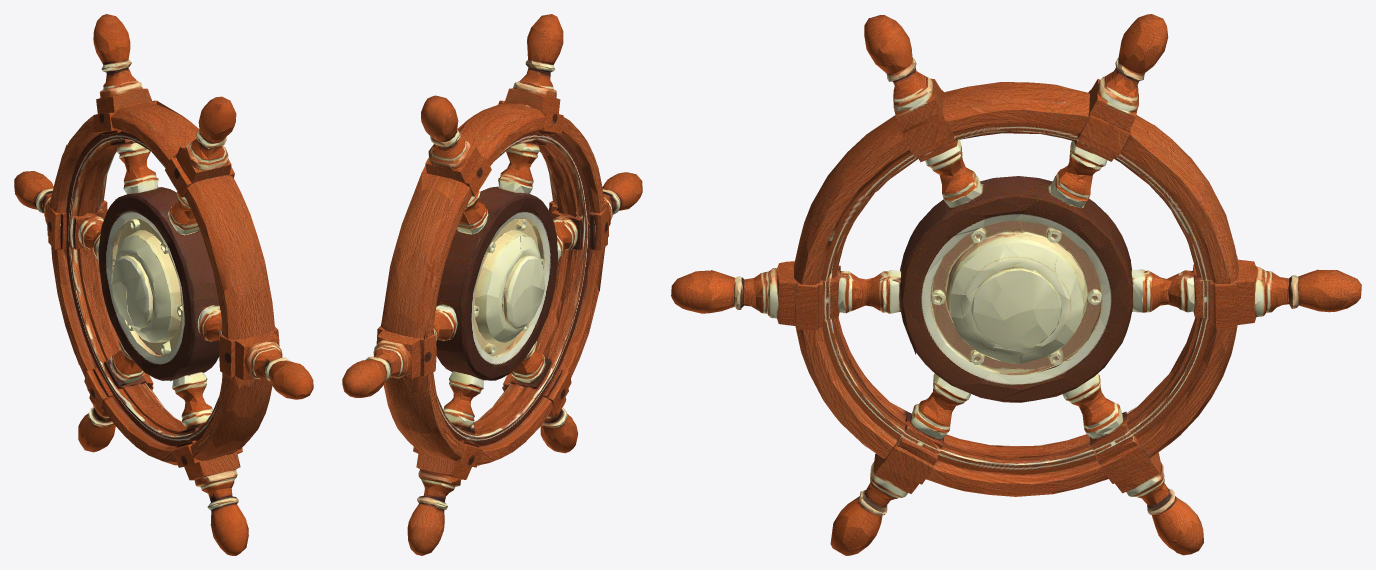
The model's file is timao-balsa.glb.
3 renders of one model, left to right at view 1: azimuth 30°, elevation 25°; view 2: azimuth 150°, elevation 25°; view 3: azimuth 270°, elevation 25°, orthographic. The views are drawn at different scales.
Parts seen in each view (by area): view 1: timao-balsa; view 2: timao-balsa; view 3: timao-balsa.
Part boxes in pixels (x1=…): timao-balsa: x1=14, y1=14, x2=313, y2=555; timao-balsa: x1=342, y1=14, x2=642, y2=555; timao-balsa: x1=671, y1=14, x2=1361, y2=555.
Size of the model in its own units: 0.1463 by 0.8274 by 0.96.
1 material, 1 textured.
